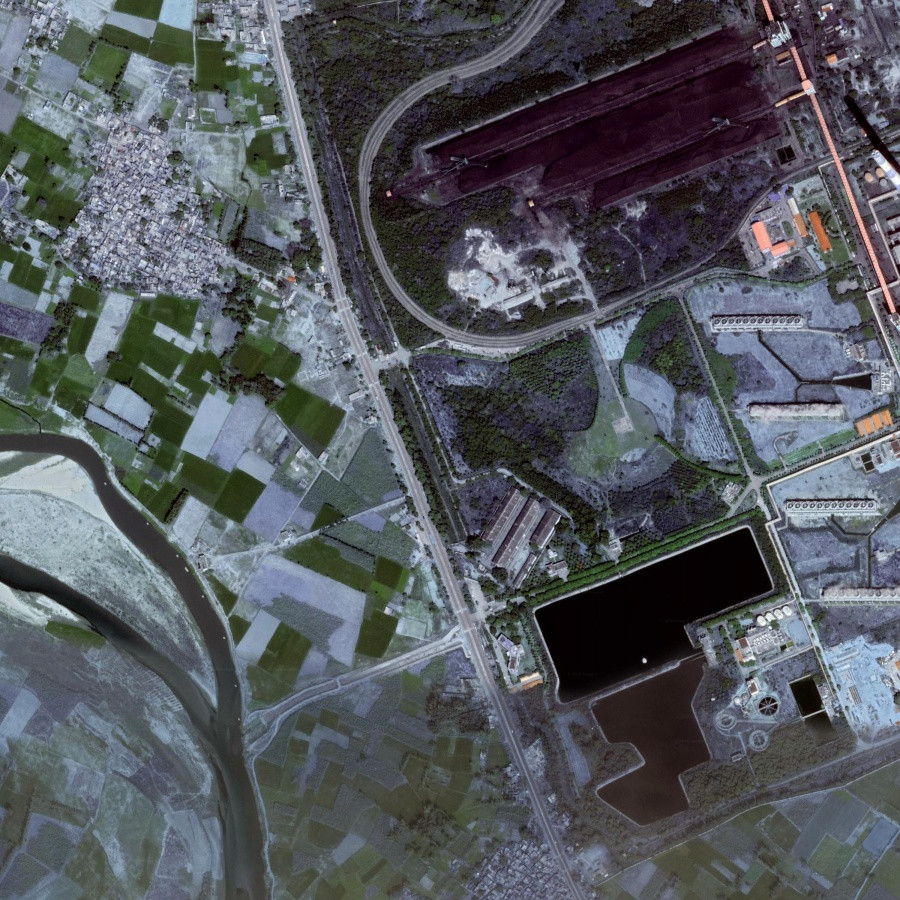PowerPlant: (514, 518, 784, 746)
